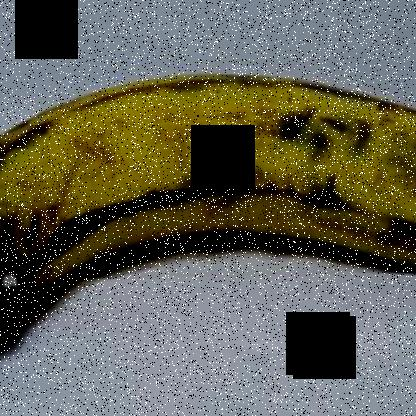overripe: (0, 33, 415, 324)
rotten: (0, 142, 106, 351)
